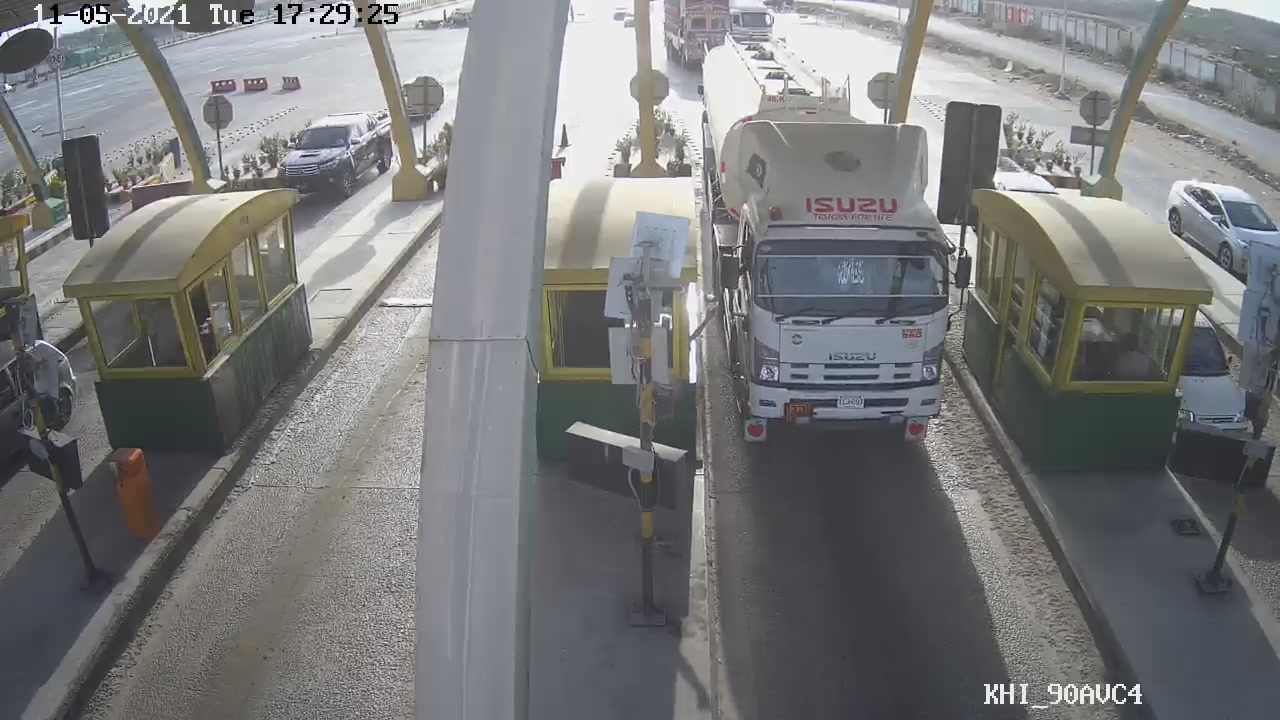F6: (689, 33, 946, 448)
